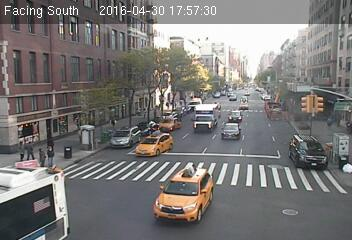neg: (270, 119, 299, 157), (72, 171, 97, 205), (166, 167, 189, 198), (241, 24, 263, 54), (28, 34, 50, 63), (251, 193, 272, 221), (111, 105, 131, 132), (141, 197, 161, 223), (242, 87, 261, 113), (300, 191, 319, 217), (296, 91, 315, 116), (300, 36, 316, 58), (80, 20, 96, 41), (199, 90, 214, 110), (164, 58, 177, 77), (61, 71, 74, 88), (180, 127, 192, 142), (89, 127, 100, 142)
pos: (44, 144, 61, 167), (33, 146, 48, 166), (23, 143, 37, 162), (16, 143, 28, 159)
